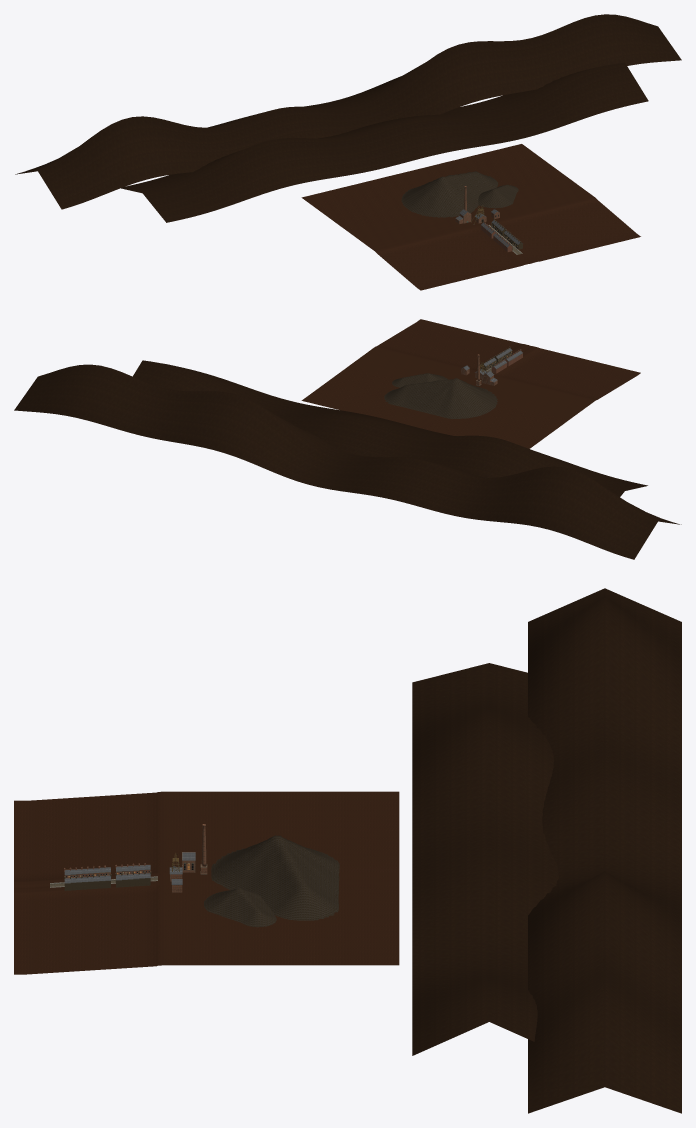
Rendered from street.glb.
The picture shows the model from 3 angles, top to bottom: view 1: azimuth 30°, elevation 25°; view 2: azimuth 150°, elevation 25°; view 3: azimuth 270°, elevation 25°; orthographic projection. The views are drawn at different scales.
Visible parts, largest first — view 1: moorland_hills_1, moorland_hills_0, ground, spoil_heap_main, spoil_heap_old; view 2: moorland_hills_1, ground, moorland_hills_0, spoil_heap_main, spoil_heap_old; view 3: moorland_hills_1, ground, moorland_hills_0, spoil_heap_main, spoil_heap_old.
Part boxes in pixels (bbox=[...]): moorland_hills_1: bbox=[15, 14, 681, 209]; moorland_hills_0: bbox=[121, 62, 648, 222]; ground: bbox=[301, 144, 640, 290]; spoil_heap_main: bbox=[401, 171, 498, 217]; spoil_heap_old: bbox=[478, 184, 518, 208]; moorland_hills_1: bbox=[14, 364, 681, 559]; ground: bbox=[301, 319, 640, 448]; moorland_hills_0: bbox=[133, 360, 647, 496]; spoil_heap_main: bbox=[384, 378, 497, 418]; spoil_heap_old: bbox=[392, 373, 447, 387]; moorland_hills_1: bbox=[528, 588, 681, 1113]; ground: bbox=[14, 791, 399, 974]; moorland_hills_0: bbox=[412, 663, 558, 1055]; spoil_heap_main: bbox=[211, 835, 339, 920]; spoil_heap_old: bbox=[204, 888, 276, 927].
Size of what is drawn, in the model's own units: 900 by 90.54 by 520.
Materials: 40 (40 with a texture image).
